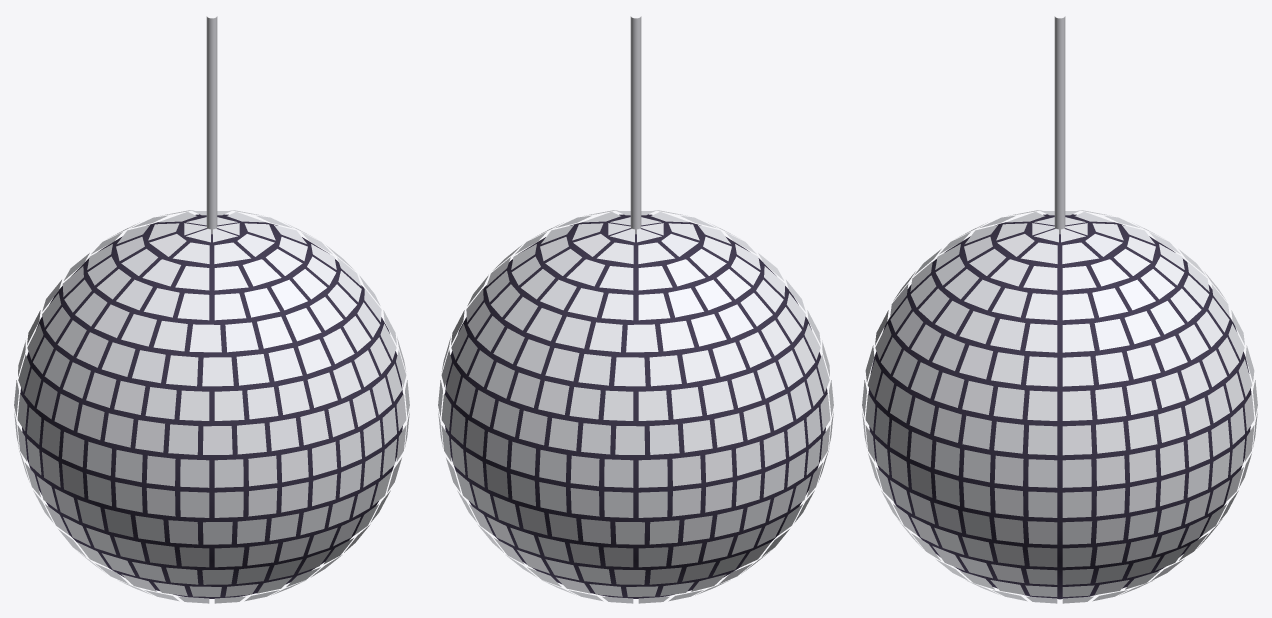
The model's file is boule-disco.glb.
3 views of the same model, side by side, from view 1: azimuth 30°, elevation 25°; view 2: azimuth 150°, elevation 25°; view 3: azimuth 270°, elevation 25° (orthographic).
Visible parts, largest first — view 1: miroirs, joint, chainette; view 2: miroirs, joint, chainette; view 3: miroirs, joint, chainette.
Boxes of the visible parts, box(x1,y1,x2,y2) form: miroirs: box(14, 210, 409, 603); joint: box(20, 214, 402, 598); chainette: box(206, 16, 217, 234); miroirs: box(438, 210, 833, 603); joint: box(445, 214, 827, 598); chainette: box(630, 16, 641, 234); miroirs: box(862, 210, 1257, 603); joint: box(868, 214, 1251, 599); chainette: box(1054, 16, 1065, 234).
Size of the model in its own units: 0.3033 by 0.4818 by 0.3033.
